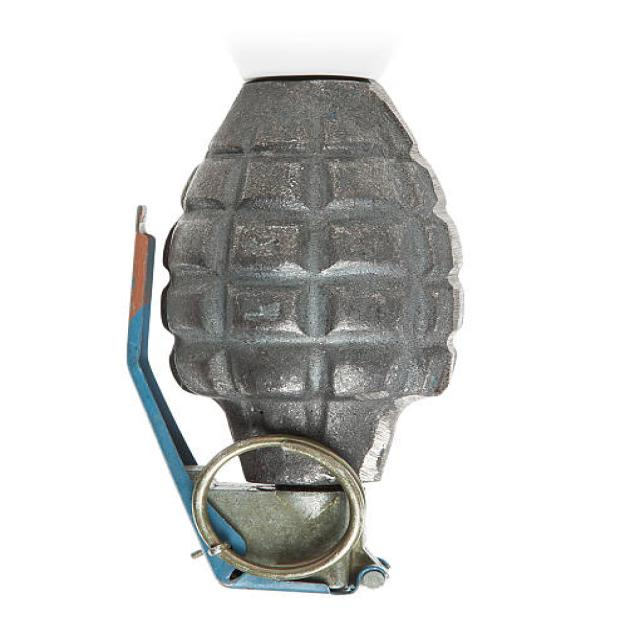grenade: (110, 71, 476, 603)
